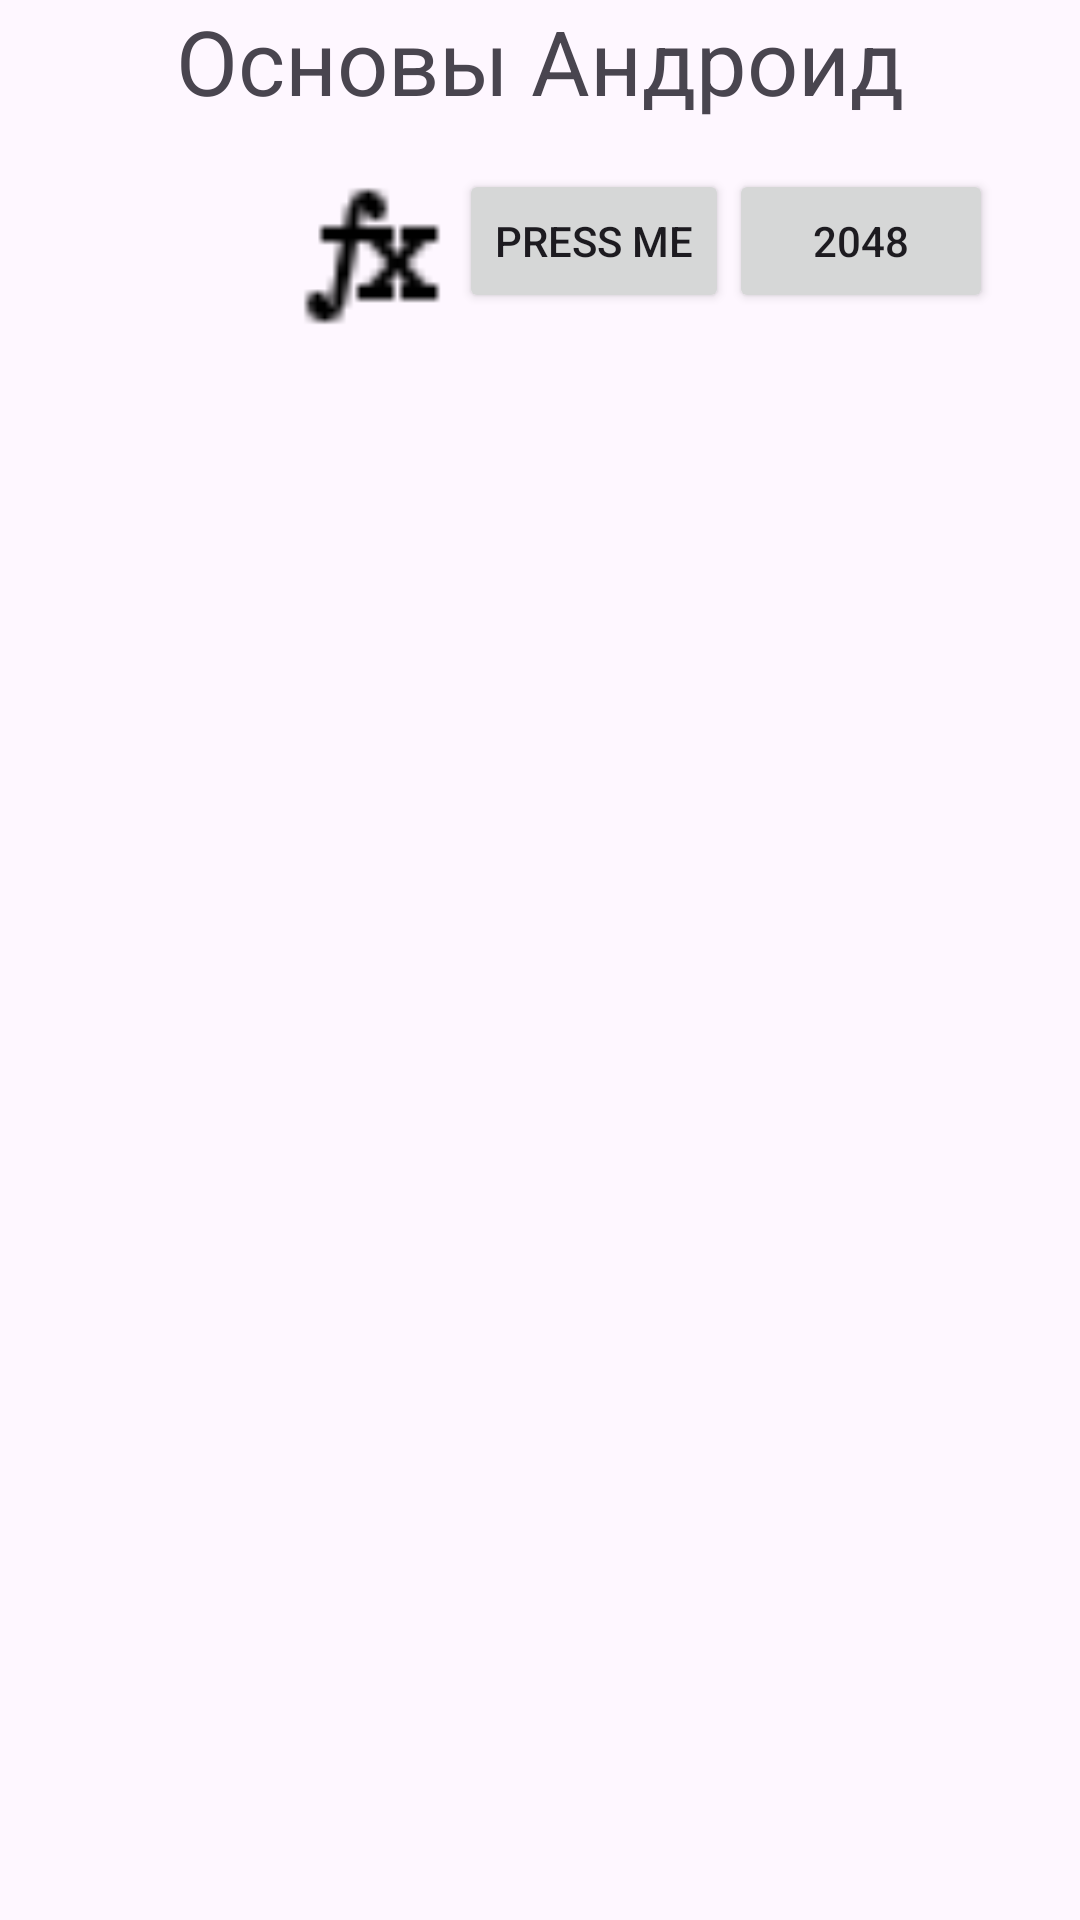

Screen size 1080x1920. Icon name, then its box in pixels as box=[x1, y1, x2, y2]:
calc: box=[304, 188, 440, 324]
